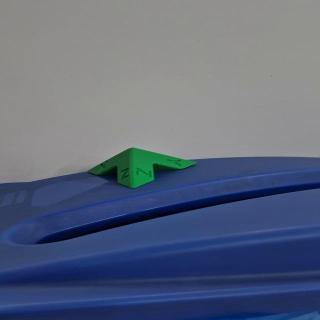eje: (84, 146, 198, 190)
